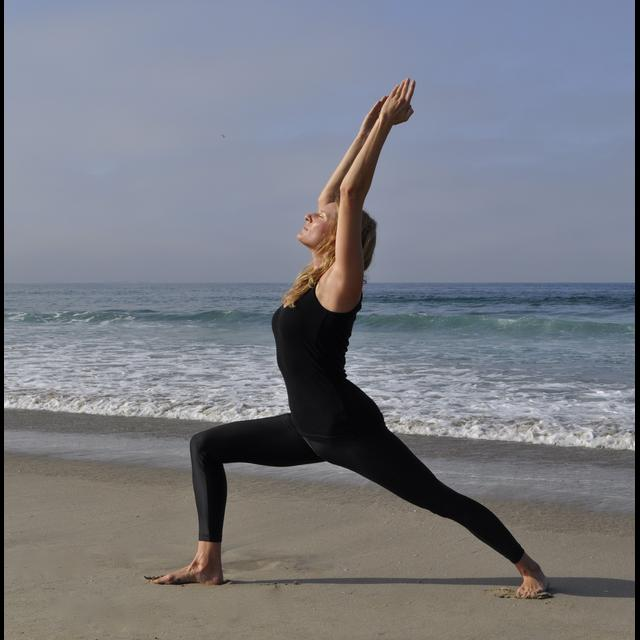Warrior_I: (148, 58, 561, 606)
